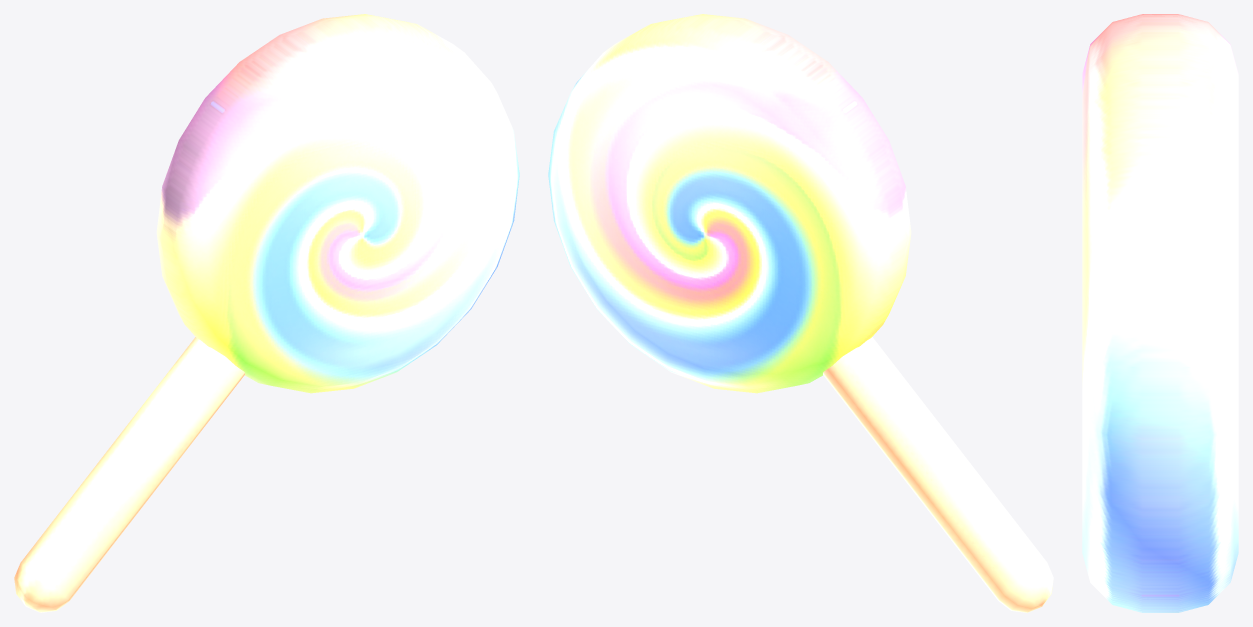
File: lollipop.glb
The picture shows the model from 3 angles, left to right: view 1: azimuth 30°, elevation 25°; view 2: azimuth 150°, elevation 25°; view 3: azimuth 270°, elevation 25°; orthographic projection. The views are drawn at different scales.
Visible parts, largest first — view 1: candy, stem; view 2: candy, stem; view 3: candy.
Boxes of the visible parts, x1,y1,x2,y2 form: candy: [156, 14, 519, 393]; stem: [14, 337, 244, 612]; candy: [548, 14, 911, 393]; stem: [823, 337, 1053, 612]; candy: [1082, 14, 1238, 612].
Size of the model in its own units: 359 by 359 by 65.
